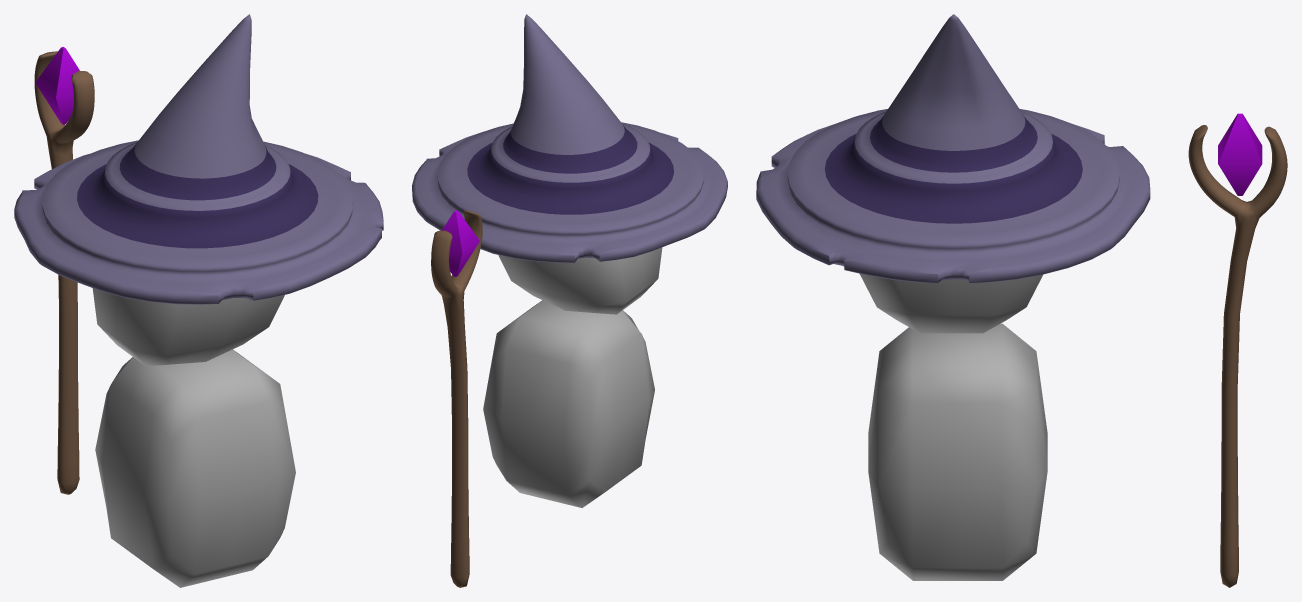
File: Wizard_Blockout.fbx
3 renders of one model, left to right at view 1: azimuth 30°, elevation 25°; view 2: azimuth 150°, elevation 25°; view 3: azimuth 270°, elevation 25°, orthographic. The views are drawn at different scales.
Visible parts, largest first — view 1: Hat, Body, Head, Staff1, Crystal; view 2: Hat, Body, Staff1, Head, Crystal; view 3: Hat, Body, Staff1, Head, Crystal.
Boxes of the visible parts, <box> form: Hat: <box>14,14,383,304</box>; Body: <box>95,349,295,587</box>; Head: <box>92,288,284,366</box>; Staff1: <box>34,51,94,494</box>; Crystal: <box>35,47,79,124</box>; Hat: <box>412,14,727,262</box>; Body: <box>483,300,654,507</box>; Staff1: <box>431,210,482,587</box>; Head: <box>498,247,662,314</box>; Crystal: <box>442,210,479,276</box>; Hat: <box>756,14,1150,283</box>; Body: <box>868,323,1047,580</box>; Staff1: <box>1188,125,1287,587</box>; Head: <box>860,273,1042,333</box>; Crystal: <box>1218,113,1262,195</box>.
Size of the model in its own units: 2.45 by 4.14 by 3.31.
